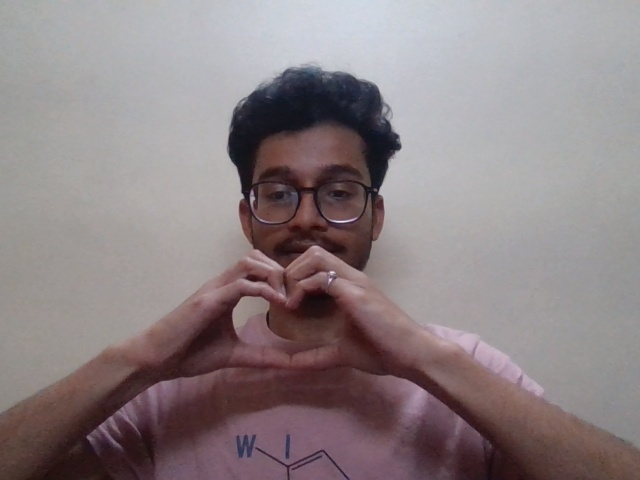silent-voice: (173, 241, 414, 390)
